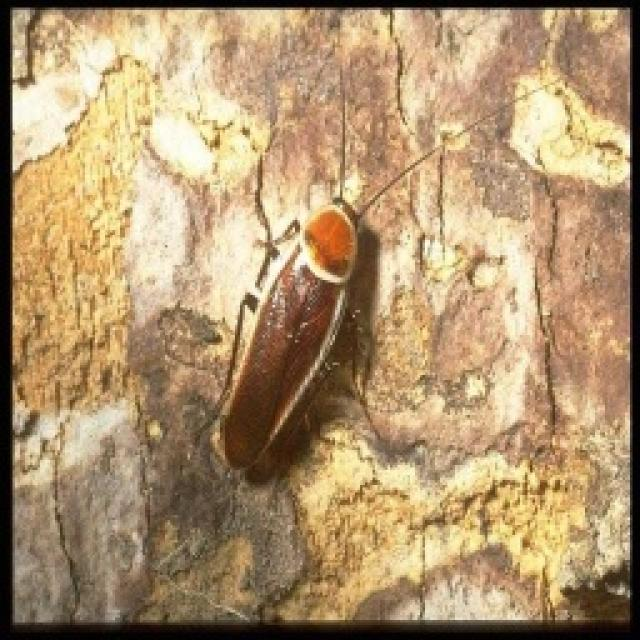cockroach: (189, 171, 402, 478)
